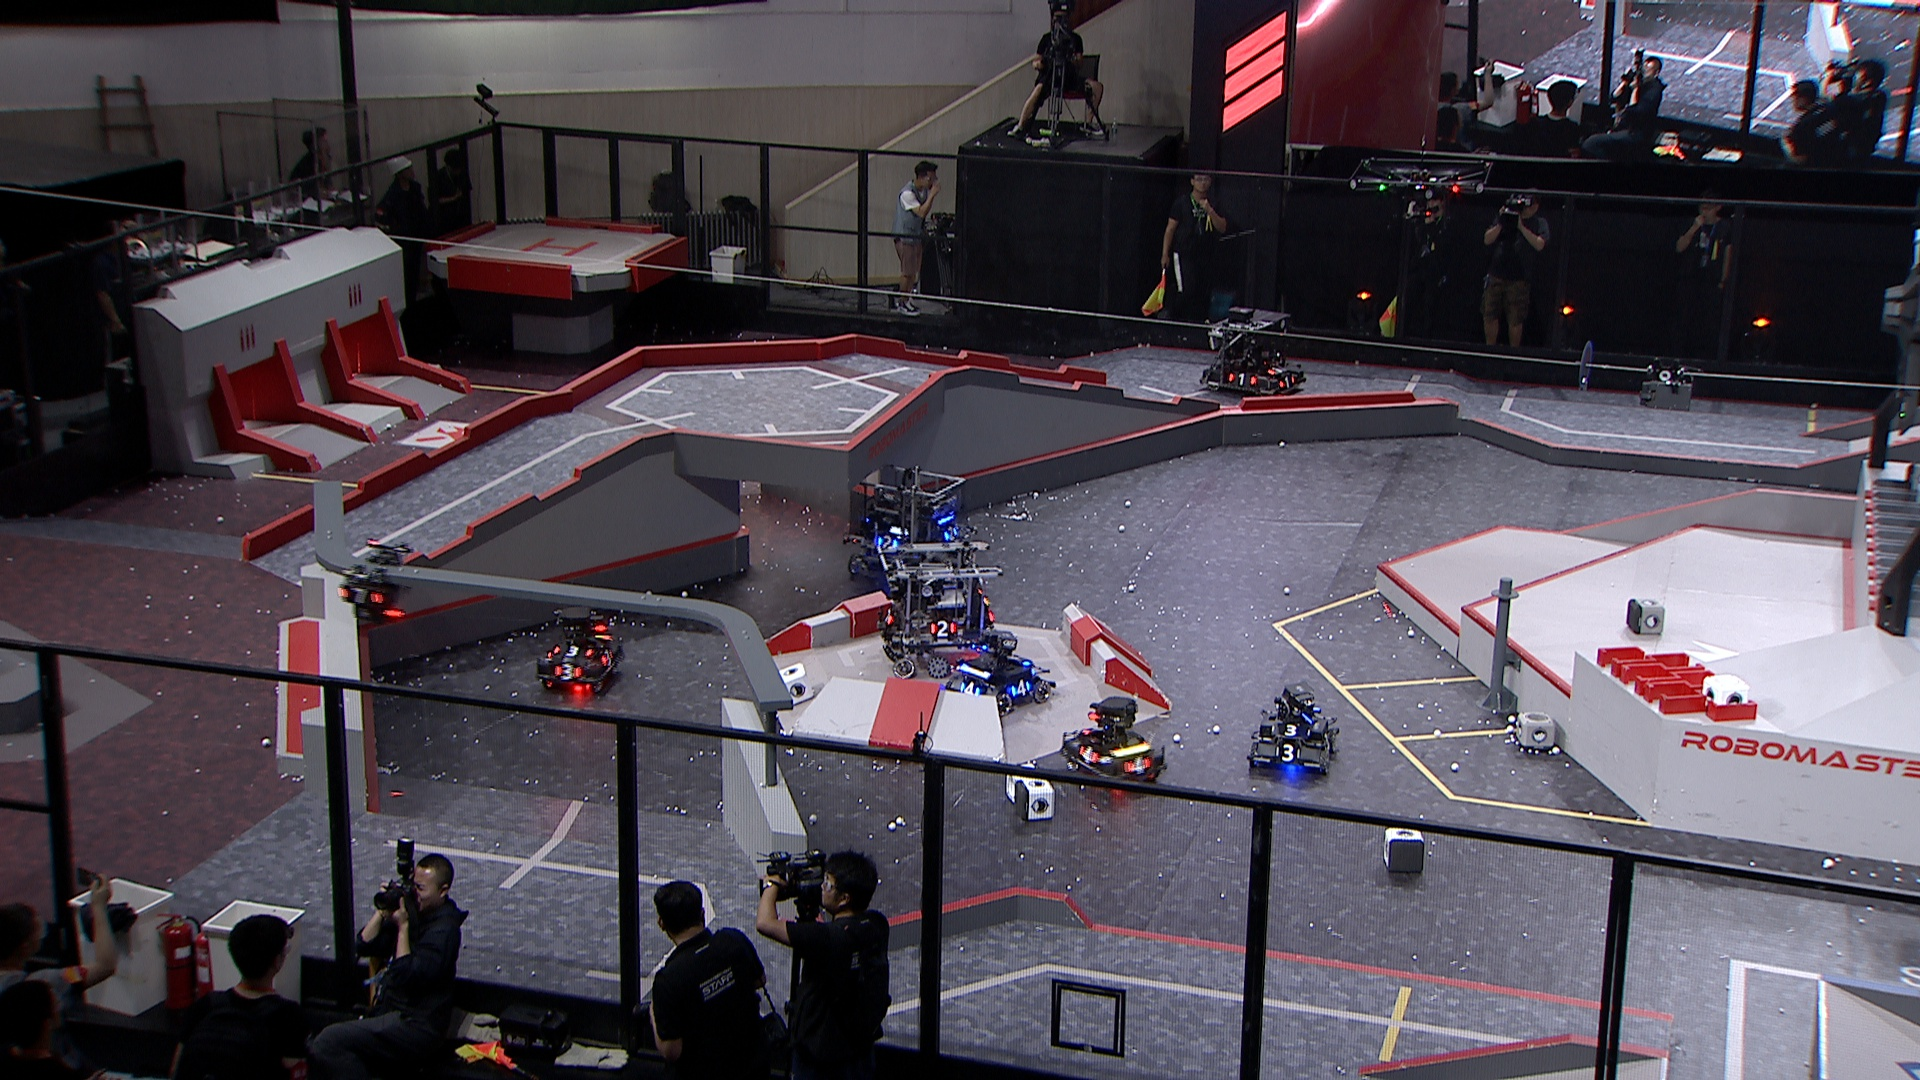armor: (335, 585, 384, 609), (553, 661, 584, 684), (1271, 723, 1313, 740), (551, 644, 593, 659), (1122, 754, 1153, 775), (1275, 741, 1302, 764), (1228, 371, 1259, 389), (930, 618, 955, 640), (1077, 745, 1101, 766), (874, 531, 899, 550), (1011, 679, 1031, 698), (1276, 375, 1298, 392), (959, 680, 982, 695), (599, 647, 615, 669), (882, 607, 895, 628), (1321, 733, 1335, 754), (1266, 365, 1287, 377), (942, 526, 957, 541)
car: (878, 541, 1007, 680), (845, 463, 975, 584), (1062, 694, 1168, 793), (1204, 306, 1307, 400), (1249, 678, 1342, 781), (948, 632, 1059, 717), (534, 603, 622, 700)
watcher: (334, 537, 415, 626)
